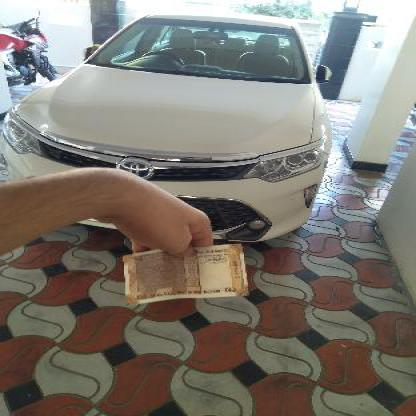New10Back: (124, 244, 248, 300)
